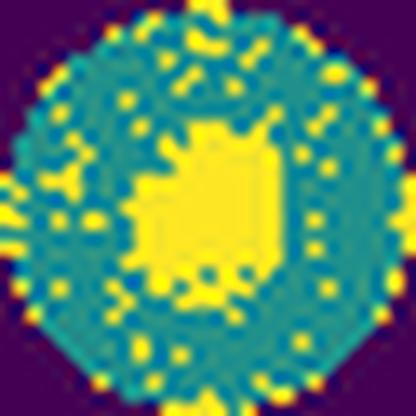Center: (122, 103, 283, 314)
